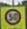limite 50: (4, 9, 20, 25)
